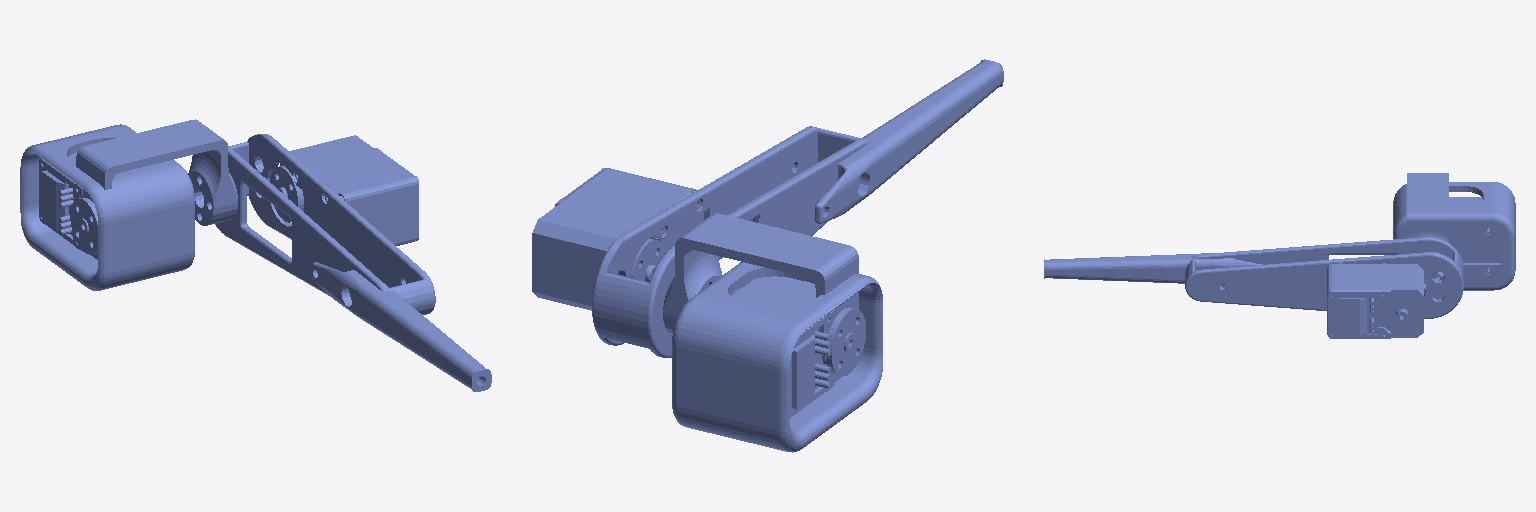
robot.urdf — limb_sub.SLDASM:
<?xml version="1.0" encoding="utf-8"?>
<!-- This URDF was automatically created by SolidWorks to URDF Exporter! Originally created by Stephen Brawner (brawner@gmail.com) 
     Commit Version: 1.6.0-4-g7f85cfe  Build Version: 1.6.7995.38578
     For more information, please see http://wiki.ros.org/sw_urdf_exporter -->
<robot
  name="limb_sub.SLDASM">
  <link
    name="shoulder_link">
    <inertial>
      <origin
        xyz="0.00189283967211911 -0.00149022104022392 0.0209651260942884"
        rpy="0 0 0" />
      <mass
        value="0.0772984767866564" />
      <inertia
        ixx="2.74184679471754E-05"
        ixy="-7.12325596084157E-08"
        ixz="1.19608410119039E-07"
        iyy="2.07506136746851E-05"
        iyz="-2.5629423337733E-08"
        izz="3.03168099471715E-05" />
    </inertial>
    <visual>
      <origin
        xyz="0 0 0"
        rpy="0 0 0" />
      <geometry>
        <mesh
          filename="package://limb_sub.SLDASM/meshes/shoulder_link.STL" />
      </geometry>
      <material
        name="">
        <color
          rgba="0.545098039215686 0.615686274509804 0.858823529411765 1" />
      </material>
    </visual>
    <collision>
      <origin
        xyz="0 0 0"
        rpy="0 0 0" />
      <geometry>
        <mesh
          filename="package://limb_sub.SLDASM/meshes/shoulder_link.STL" />
      </geometry>
    </collision>
  </link>
  <link
    name="femur_link">
    <inertial>
      <origin
        xyz="0.0323249229136636 -9.62316571824495E-07 0.0265797029719004"
        rpy="0 0 0" />
      <mass
        value="0.0561441430721167" />
      <inertia
        ixx="7.25316608559317E-06"
        ixy="-2.79260011877617E-09"
        ixz="-1.19212807601372E-07"
        iyy="4.40862958479968E-05"
        iyz="3.84318283091856E-10"
        izz="4.29206771962485E-05" />
    </inertial>
    <visual>
      <origin
        xyz="0 0 0"
        rpy="0 0 0" />
      <geometry>
        <mesh
          filename="package://limb_sub.SLDASM/meshes/femur_link.STL" />
      </geometry>
      <material
        name="">
        <color
          rgba="0.545098039215686 0.615686274509804 0.858823529411765 1" />
      </material>
    </visual>
    <collision>
      <origin
        xyz="0 0 0"
        rpy="0 0 0" />
      <geometry>
        <mesh
          filename="package://limb_sub.SLDASM/meshes/femur_link.STL" />
      </geometry>
    </collision>
  </link>
  <joint
    name="hfe_joint"
    type="revolute">
    <origin
      xyz="0.0298000000000001 -0.0124999999999999 0.0214999999999999"
      rpy="-1.5707963267949 0 -1.5707963267949" />
    <parent
      link="shoulder_link" />
    <child
      link="femur_link" />
    <axis
      xyz="0 0 1" />
    <limit
      lower="0"
      upper="0"
      effort="0"
      velocity="0" />
  </joint>
  <link
    name="tibia_link">
    <inertial>
      <origin
        xyz="0.0288498822493463 -2.12587483422455E-07 -1.69689207372981E-07"
        rpy="0 0 0" />
      <mass
        value="0.0122277569224425" />
      <inertia
        ixx="2.38144486897778E-07"
        ixy="4.86891982377057E-11"
        ixz="2.95573498479285E-11"
        iyy="8.84429600390576E-06"
        iyz="-1.13395317943241E-11"
        izz="8.85815391336193E-06" />
    </inertial>
    <visual>
      <origin
        xyz="0 0 0"
        rpy="0 0 0" />
      <geometry>
        <mesh
          filename="package://limb_sub.SLDASM/meshes/tibia_link.STL" />
      </geometry>
      <material
        name="">
        <color
          rgba="0.545098039215686 0.615686274509804 0.858823529411765 1" />
      </material>
    </visual>
    <collision>
      <origin
        xyz="0 0 0"
        rpy="0 0 0" />
      <geometry>
        <mesh
          filename="package://limb_sub.SLDASM/meshes/tibia_link.STL" />
      </geometry>
    </collision>
  </link>
  <joint
    name="kfe_joint"
    type="revolute">
    <origin
      xyz="0.0960572429044665 0 0.00999999999999993"
      rpy="-3.14159265358979 0 0" />
    <parent
      link="femur_link" />
    <child
      link="tibia_link" />
    <axis
      xyz="0 0 -1" />
    <limit
      lower="0"
      upper="0"
      effort="0"
      velocity="0" />
  </joint>
</robot>

--- Facts derived from the render (not from the file) ---
Views: 3 orthographic renders of the robot side by side, from view 1: azimuth 30°, elevation 25°; view 2: azimuth 150°, elevation 25°; view 3: azimuth 270°, elevation 25°.
Model limb_sub.SLDASM with 3 links and 2 joints (2 revolute), rooted at shoulder_link, posed all joints at 0.
Links seen in each view (by area): view 1: femur_link, shoulder_link, tibia_link; view 2: femur_link, shoulder_link, tibia_link; view 3: femur_link, shoulder_link, tibia_link.
Link boxes in pixels (left/top/right/bottom): femur_link: left=76, top=119, right=435, bottom=314; shoulder_link: left=20, top=124, right=194, bottom=290; tibia_link: left=312, top=262, right=491, bottom=391; femur_link: left=532, top=126, right=869, bottom=364; shoulder_link: left=672, top=262, right=882, bottom=452; tibia_link: left=815, top=59, right=1003, bottom=223; femur_link: left=1185, top=173, right=1463, bottom=338; shoulder_link: left=1393, top=182, right=1515, bottom=290; tibia_link: left=1044, top=253, right=1262, bottom=284.
Bounding box of the posed robot: 0.1151 × 0.2213 × 0.0473 m (x, y, z).
Meshes: 3 distinct files referenced, 3 mesh visuals loaded (3 binary STL).
